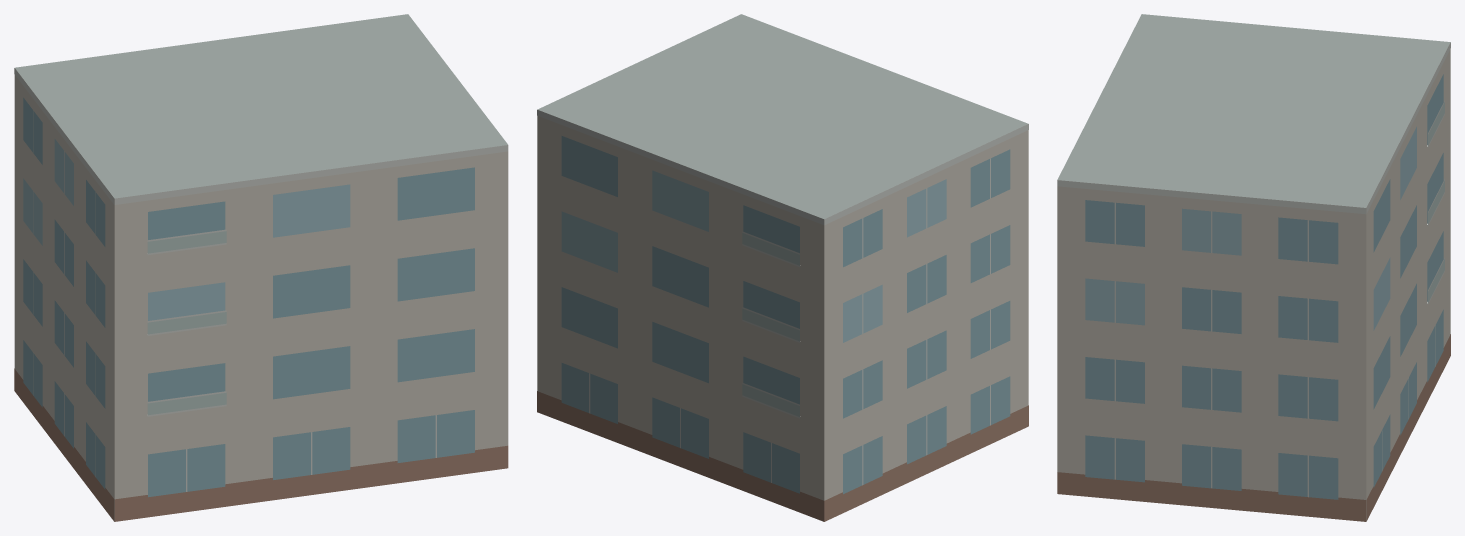
File: residential-5097702d-7db7-4ade-8221-4852b64d4068.glb
3 renders of one model, left to right at view 1: azimuth 30°, elevation 25°; view 2: azimuth 150°, elevation 25°; view 3: azimuth 270°, elevation 25°, orthographic. The views are drawn at different scales.
Visible parts, largest first — view 1: residential-5097702d-7db7-4ade-8221-4852b64d4068.tmp; view 2: residential-5097702d-7db7-4ade-8221-4852b64d4068.tmp; view 3: residential-5097702d-7db7-4ade-8221-4852b64d4068.tmp.
Part boxes in pixels (x1,y1,x2,y2): residential-5097702d-7db7-4ade-8221-4852b64d4068.tmp: (14, 14, 508, 521); residential-5097702d-7db7-4ade-8221-4852b64d4068.tmp: (537, 14, 1028, 521); residential-5097702d-7db7-4ade-8221-4852b64d4068.tmp: (1057, 14, 1450, 521).
Size of the model in its own units: 16.18 by 12.2 by 13.87.
